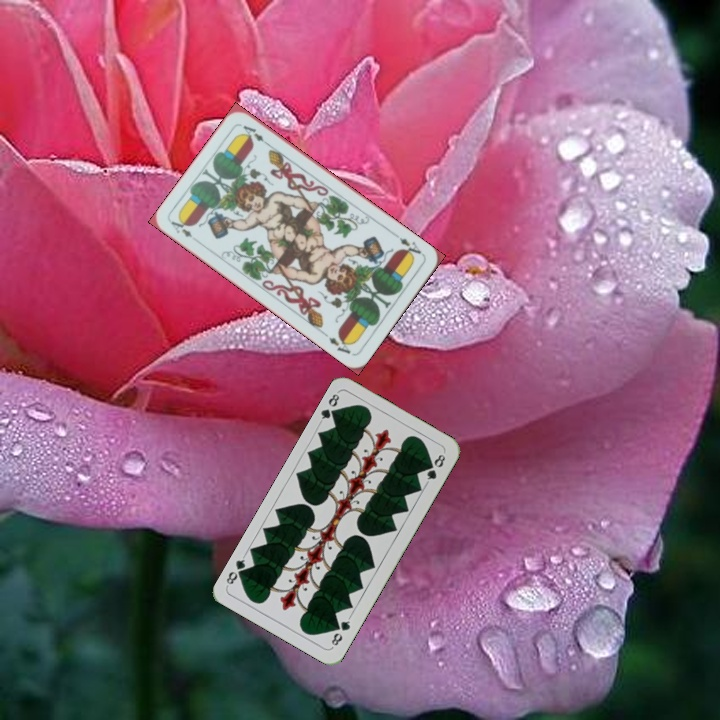EA: (395, 233, 426, 260), (166, 215, 195, 240)
G8: (327, 613, 353, 650), (316, 388, 342, 425)
